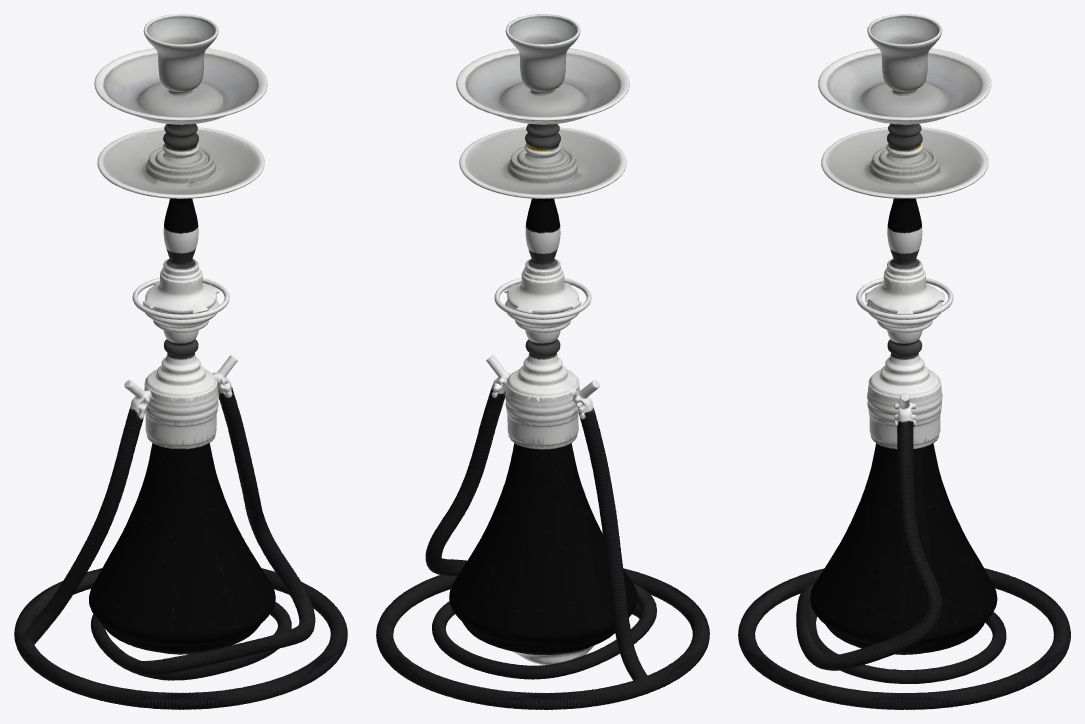
Rendered from hookah_colossus.glb.
3 renders of one model, left to right at view 1: azimuth 30°, elevation 25°; view 2: azimuth 150°, elevation 25°; view 3: azimuth 270°, elevation 25°, orthographic.
Size of the model in its own units: 0.9332 by 1.9 by 0.9341.
Materials: 1 (1 with a texture image).
